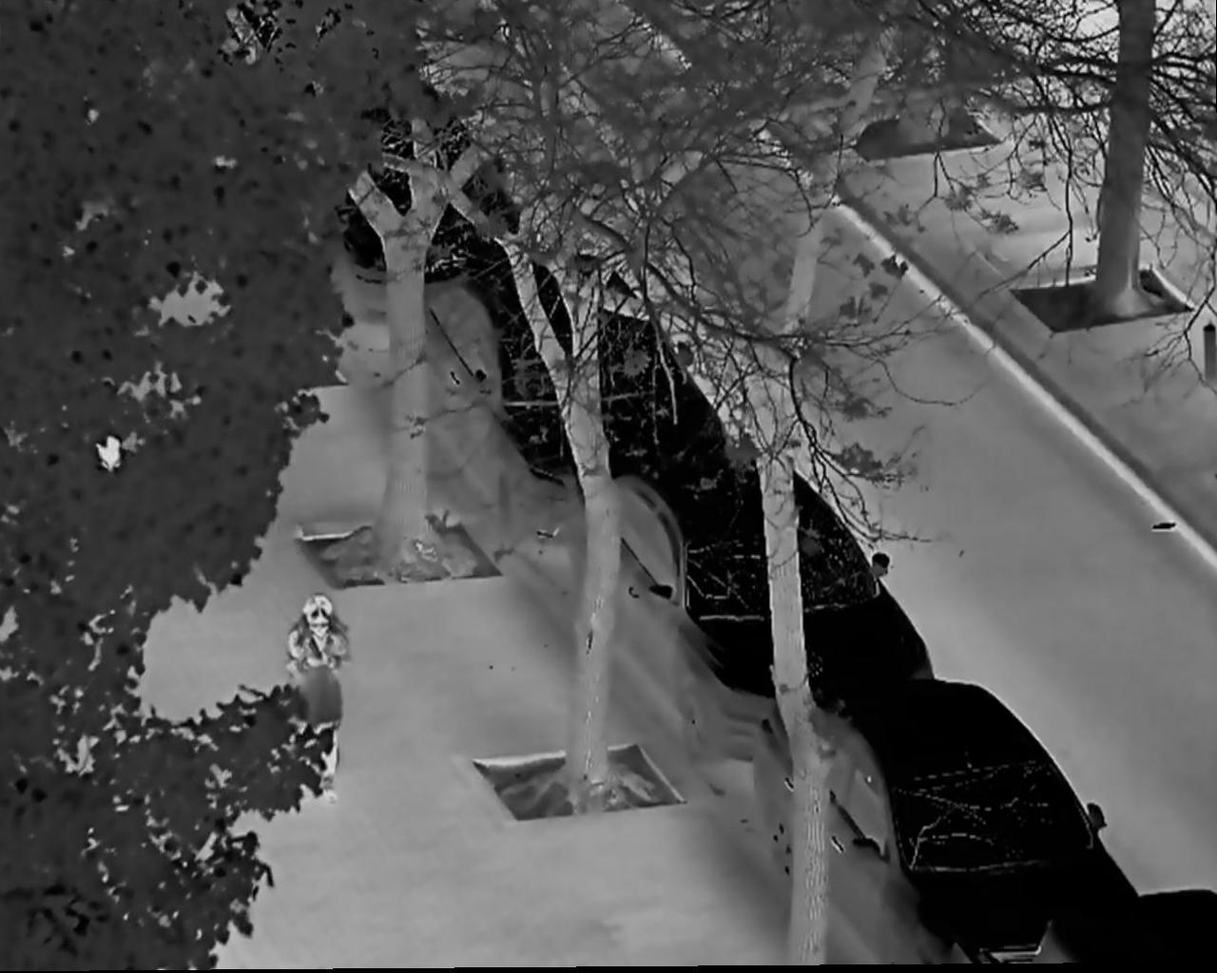person: (278, 593, 359, 805)
